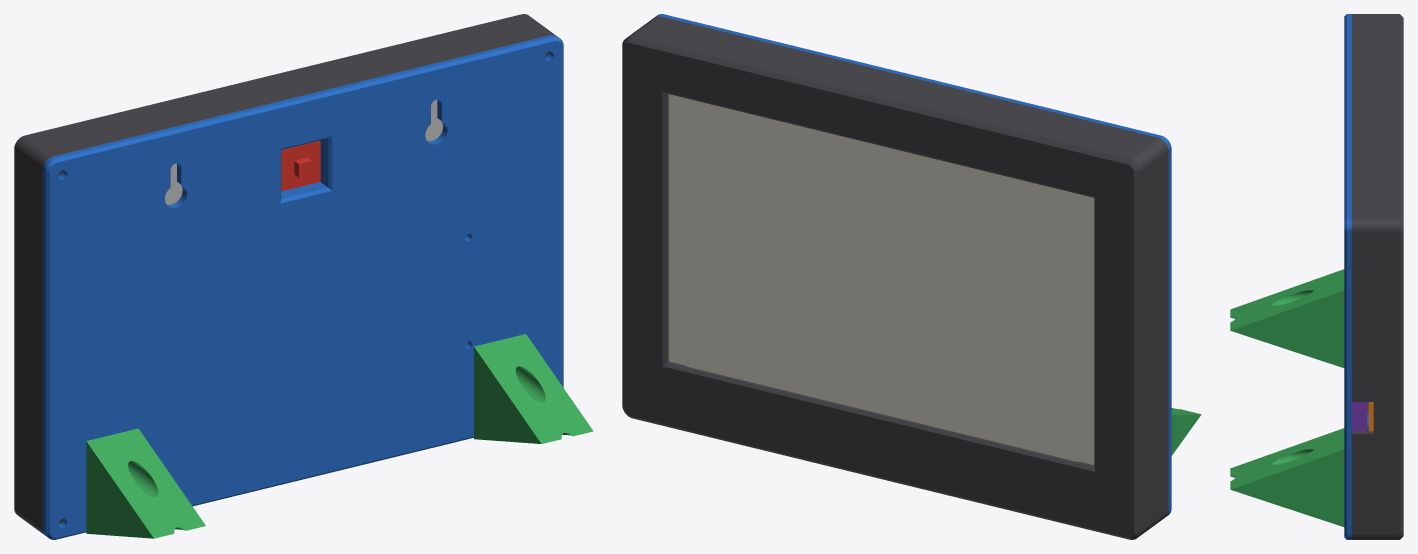
Rendered from assembly.obj.
3 views of the same model, side by side, from view 1: azimuth 30°, elevation 25°; view 2: azimuth 150°, elevation 25°; view 3: azimuth 270°, elevation 25° (orthographic). The views are drawn at different scales.
Parts seen in each view (by area): view 1: back_cover, frame, foot_1, foot_2, ref_key_switch, backer; view 2: ref_panel, frame, back_cover, foot_1; view 3: frame, foot_1, foot_2, back_cover, ref_esp32.
Part boxes in pixels (x1,y1,x2,y2): back_cover: [43, 35, 563, 539]; frame: [14, 14, 555, 535]; foot_1: [86, 428, 205, 538]; foot_2: [474, 334, 593, 443]; ref_key_switch: [281, 140, 320, 191]; backer: [165, 99, 442, 204]; ref_panel: [668, 94, 1094, 464]; frame: [622, 16, 1168, 539]; back_cover: [655, 14, 1171, 515]; foot_1: [1171, 408, 1201, 455]; frame: [1351, 14, 1403, 539]; foot_1: [1230, 269, 1344, 367]; foot_2: [1230, 428, 1344, 526]; back_cover: [1344, 14, 1368, 539]; ref_esp32: [1351, 402, 1367, 431].
Bounding box in the file's own units: 199 × 140 × 68.5.
